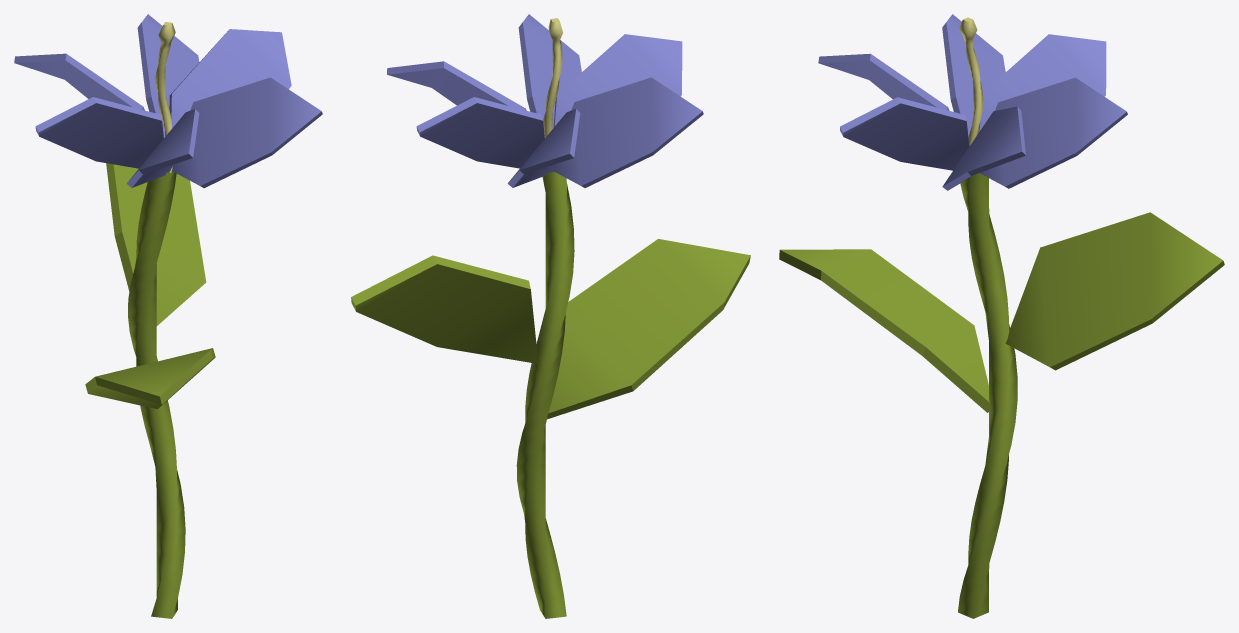
File: fleurBleu.fbx
The picture shows the model from 3 angles, left to right: view 1: azimuth 30°, elevation 25°; view 2: azimuth 150°, elevation 25°; view 3: azimuth 270°, elevation 25°; orthographic projection.
Parts seen in each view (by area): view 1: polySurface39; view 2: polySurface39; view 3: polySurface39.
Boxes of the visible parts, bbox=[...] form: polySurface39: bbox=[14, 14, 322, 618]; polySurface39: bbox=[351, 14, 750, 618]; polySurface39: bbox=[779, 14, 1224, 618].
Size of the model in its own units: 9.38 by 18.87 by 12.85.
